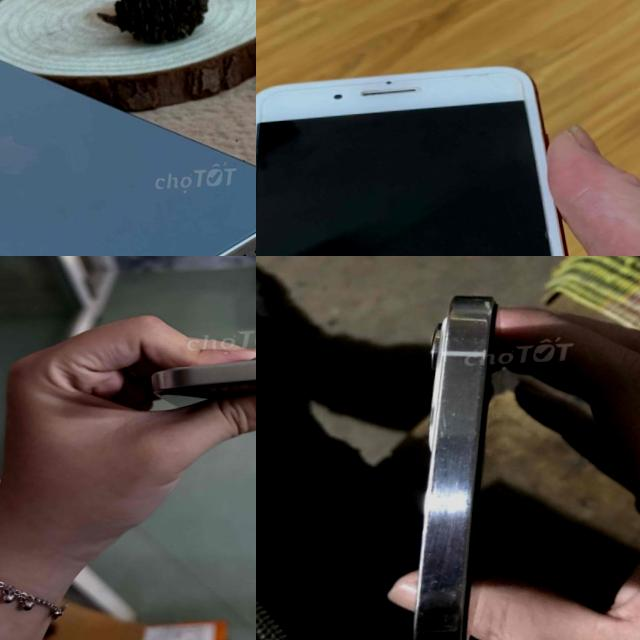gen_12_13: (351, 258, 562, 640)
gen_15: (0, 0, 256, 256), (146, 316, 256, 442)
gen_7_8: (256, 59, 624, 256)
scratch: (452, 66, 512, 82)
